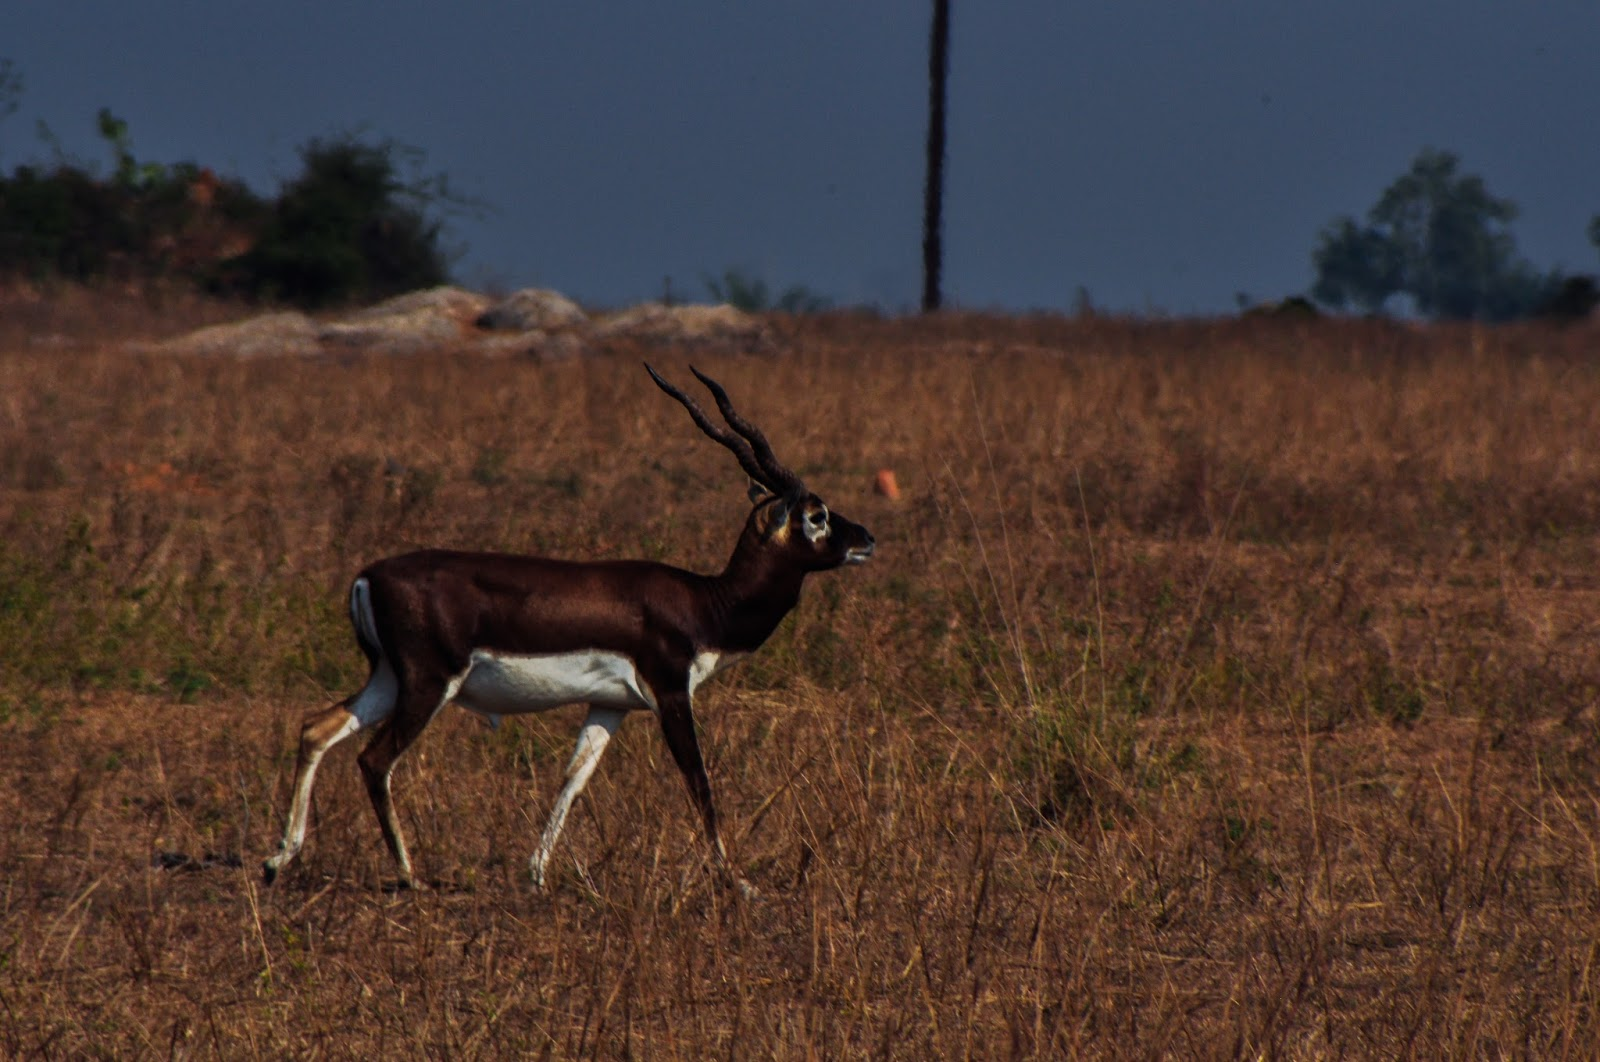Blackbuck: (255, 367, 879, 910)
